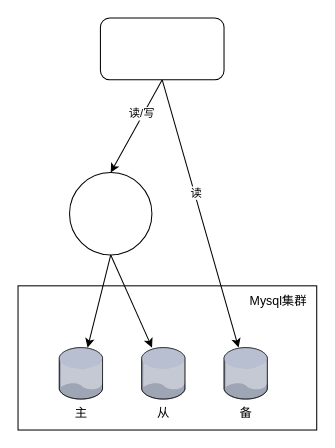
This 335x448 diagram has some shape labels left out. The box of each missing label's shape, as (x1, y1, x2, y2) in pixels:
VIP: (68, 171, 152, 255)
应用: (99, 17, 224, 80)
